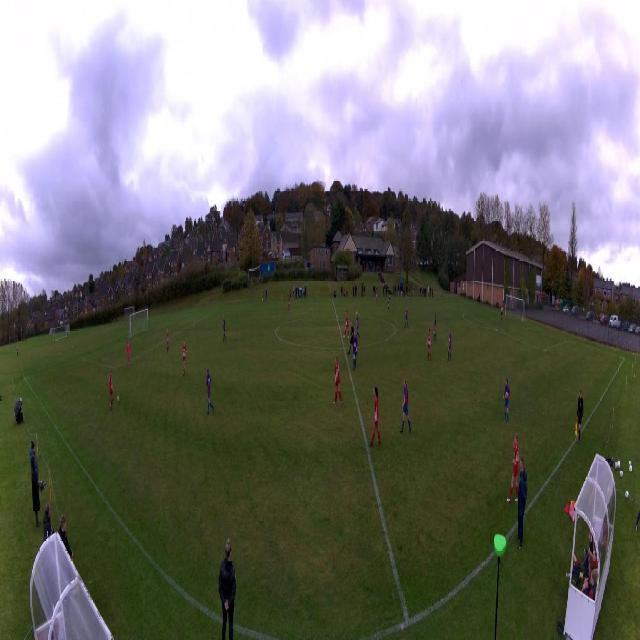ball: (117, 395, 119, 402)
player: (506, 433, 519, 504), (368, 385, 381, 446), (332, 354, 343, 408), (400, 380, 411, 432), (502, 378, 511, 427), (206, 368, 214, 420), (350, 332, 358, 371), (108, 370, 114, 411), (347, 321, 354, 356), (426, 329, 432, 361), (182, 340, 187, 377), (343, 311, 349, 339), (222, 315, 227, 342), (448, 329, 452, 361), (433, 314, 437, 340), (126, 341, 130, 367), (356, 312, 360, 338), (404, 306, 408, 328), (166, 329, 169, 353), (287, 296, 291, 314), (375, 287, 379, 304), (388, 294, 391, 310), (501, 305, 503, 322)
